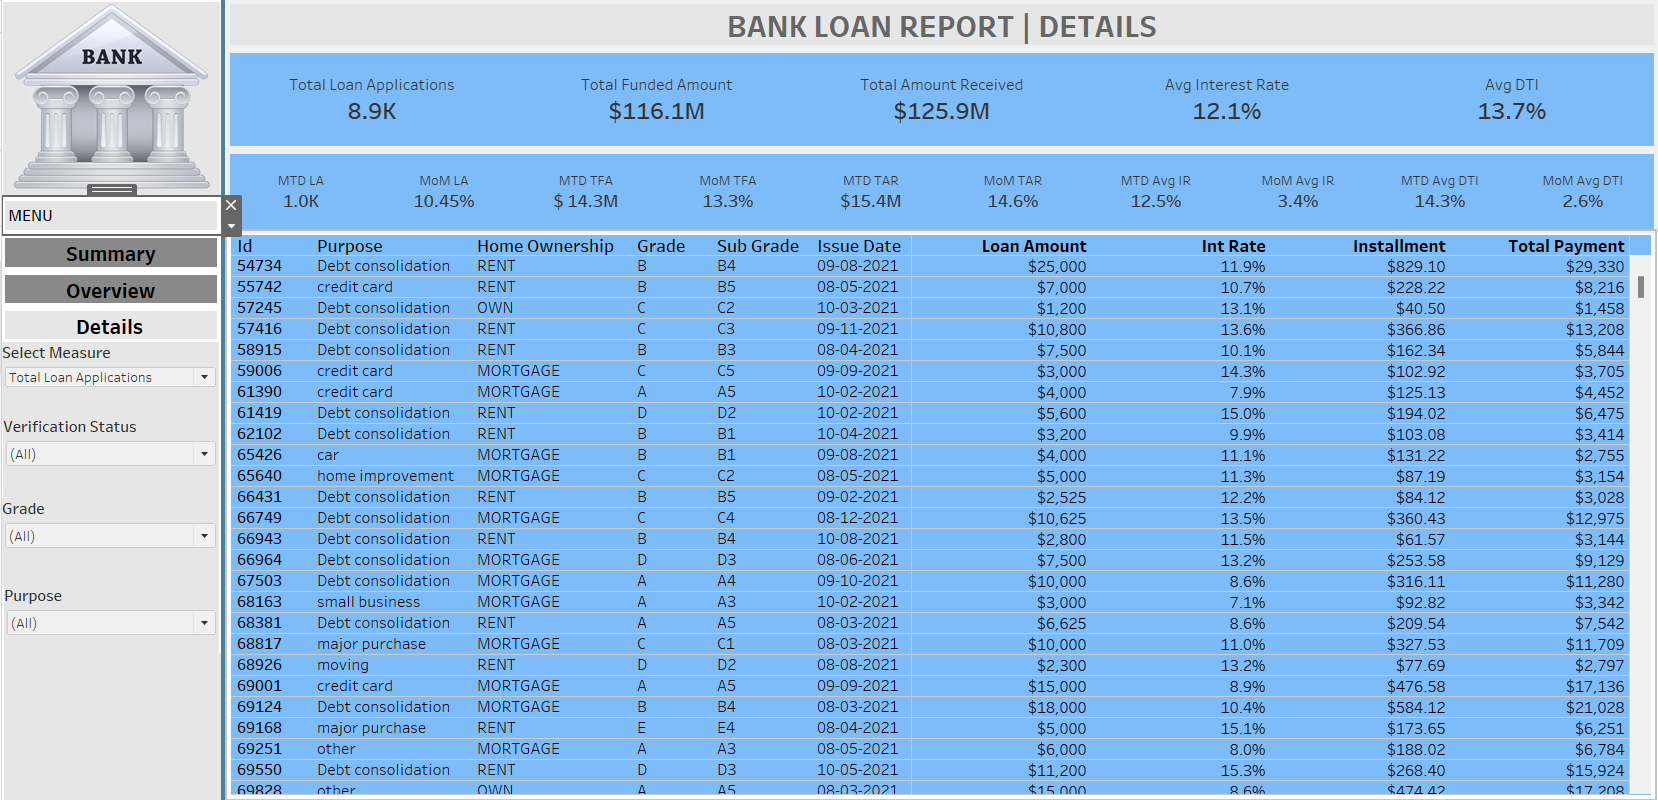

Layout of this report page (visuals, bound fields, positions):
{"tool":"tableau","page":{"name":"DETAILS","canvas":[1000,1000],"units":"permille","ordinal":0},"visuals":[{"type":"blank","box":[132.4,0,2.7,1000]},{"type":"text","box":[135.1,0,864.3,61.2]},{"type":"image","param":"D:/Tableau/pngimg.com - bank_PNG15.png","box":[0.6,2.5,131.1,241]},{"type":"worksheet","title":"Overall Summary","mark":"Automatic","box":[135.1,61.2,864.3,126.1]},{"type":"worksheet","title":"MoM Summary","mark":"Automatic","box":[135.1,187.3,864.3,103.6]},{"type":"worksheet","title":"Details","mark":"Automatic","rows":["id","purpose","home_ownership","grade","sub_grade","issue_date"],"box":[135.5,288.4,862,709.1]},{"type":"parameter","param":"[Parameters].[Parameter 1]","box":[0,427,131.1,96.1]},{"type":"filter","title":"MoM Summary","param":"[federated.1ixtxb0159my8v13iefee1mftut4].[none:verification_status:nk]","box":[0.6,519.4,130.5,103.6]},{"type":"filter","title":"MoM Summary","param":"[federated.1ixtxb0159my8v13iefee1mftut4].[none:grade:nk]","box":[0,621.7,131.1,108.6]},{"type":"filter","title":"MoM Summary","param":"[federated.1ixtxb0159my8v13iefee1mftut4].[none:purpose:nk]","box":[1.2,730.3,129.9,84.9]}]}

Visuals, with their boxes on the dashboard's canvas, which has no fixed pixel size, in thousandths of its width and height (x1, y1, x2, y2). These are canvas units, not pixel positions in the 1658x800 screenshot, which may show the page scaled, cropped or inside an application window:
blank: [132,0,135,1000]
text: [135,0,999,61]
image: [1,2,132,244]
"Overall Summary" worksheet: [135,61,999,187]
"MoM Summary" worksheet: [135,187,999,291]
"Details" worksheet: [136,288,998,998]
parameter: [0,427,131,523]
"MoM Summary" filter: [1,519,131,623]
"MoM Summary" filter: [0,622,131,730]
"MoM Summary" filter: [1,730,131,815]
